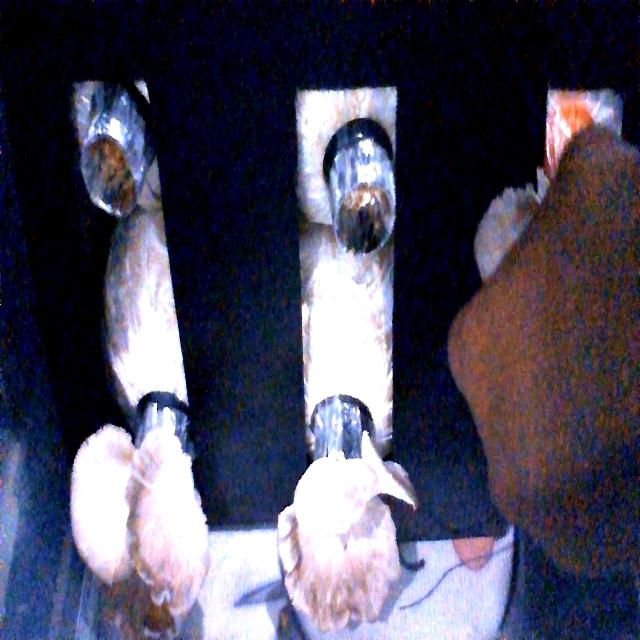big: (269, 437, 412, 640), (72, 424, 212, 624)
nfound: (81, 137, 136, 211), (336, 194, 391, 261)
